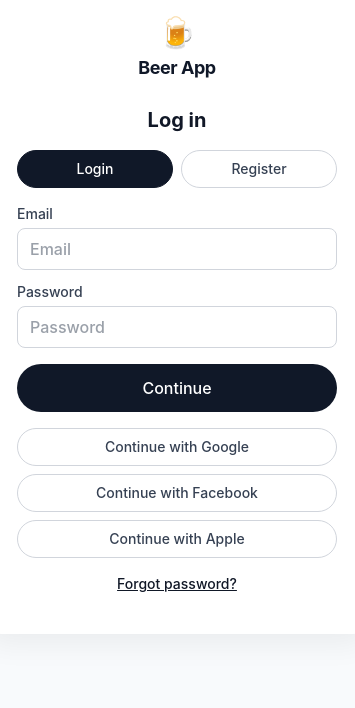
Test: AuthPage › registers a new account
The image size is (355, 708).
Click the button "Register".
click(259, 169)  # box [181,150,337,188]
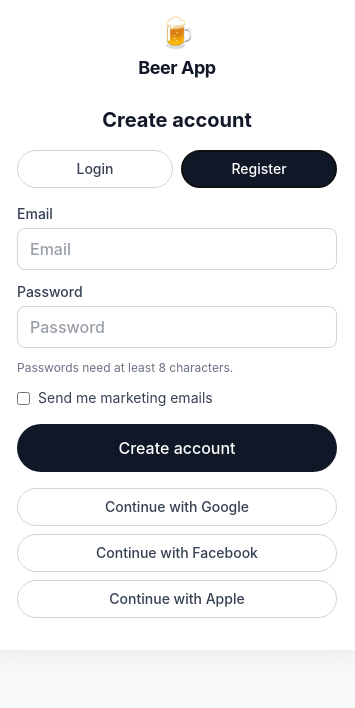
Type "new@example.com" into the field with placeholder "Email".
click(177, 249); type("new@example.com")  # box [17,228,337,270]
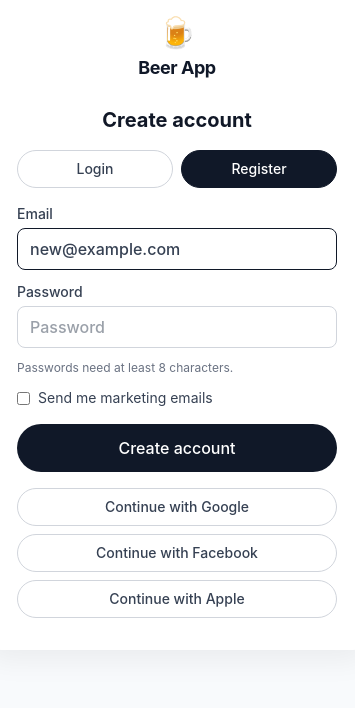
Type "Passw0rd!" into the password field with placeholder "Password".
click(177, 327); type("Passw0rd!")  # box [17,306,337,348]
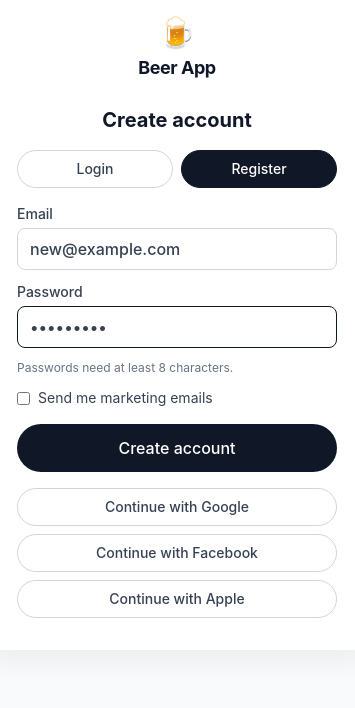
Click the button "Create account".
click(177, 448)  # box [17,424,337,472]
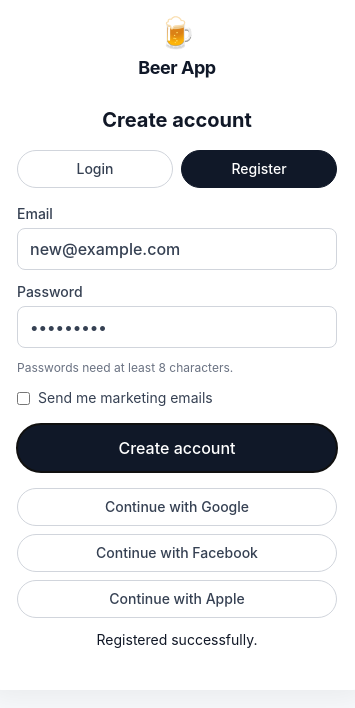
Expected: the text "Registered successfully." is shown, [97,631,258,648]
